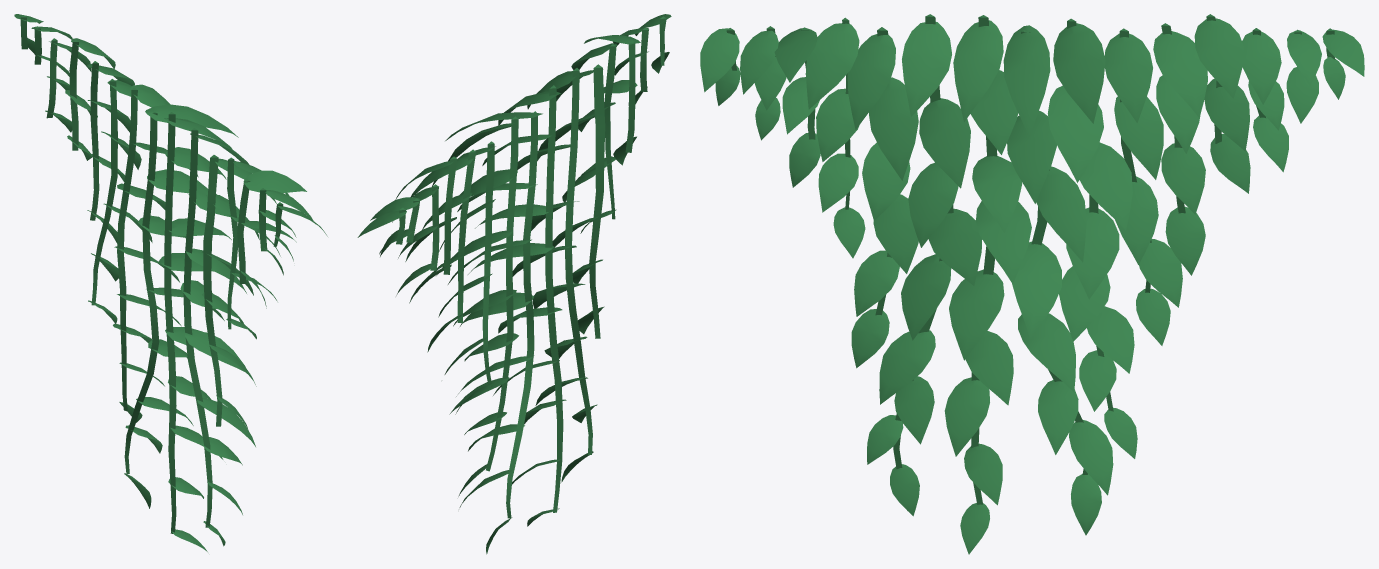
Rendered from vine_A_pack_scanden.fbx.
3 renders of one model, left to right at view 1: azimuth 30°, elevation 25°; view 2: azimuth 150°, elevation 25°; view 3: azimuth 270°, elevation 25°, orthographic. The views are drawn at different scales.
Visible parts, largest first — view 1: vine_A_pack_scanden_root_A, vine_A_pack_scanden_root_B, vine_A_pack_scanden_root_C, vine_A_pack_scanden_root_E, vine_A_pack_scanden_root_D, vine_A_pack_scanden_root_F, vine_A_pack_scanden_root_H, vine_scanden_A_leaf_A429, vine_A_pack_scanden_root_G, vine_scanden_A_leaf_A394, vine_A_pack_scanden_root_L, vine_scanden_A_leaf_A380 (+13 smaller); view 2: vine_A_pack_scanden_root_A, vine_A_pack_scanden_root_C, vine_A_pack_scanden_root_B, vine_A_pack_scanden_root_E, vine_A_pack_scanden_root_D, vine_A_pack_scanden_root_F, vine_A_pack_scanden_root_H, vine_A_pack_scanden_root_G, vine_A_pack_scanden_root_L, vine_A_pack_scanden_root_I, vine_A_pack_scanden_root_M, vine_scanden_A_leaf_A361 (+13 smaller); view 3: vine_scanden_A_leaf_A402, vine_scanden_A_leaf_A429, vine_scanden_A_leaf_A372, vine_scanden_A_leaf_A375, vine_scanden_A_leaf_A376, vine_scanden_A_leaf_A364, vine_scanden_A_leaf_A414, vine_scanden_A_leaf_A385, vine_scanden_A_leaf_A361, vine_scanden_A_leaf_A390, vine_scanden_A_leaf_A384, vine_scanden_A_leaf_A403 (+57 smaller).
Part boxes in pixels (x1,y1,x2,y2): vine_A_pack_scanden_root_A: (164, 112, 176, 533); vine_A_pack_scanden_root_B: (183, 128, 212, 527); vine_A_pack_scanden_root_C: (124, 111, 159, 473); vine_A_pack_scanden_root_E: (117, 88, 137, 411); vine_A_pack_scanden_root_D: (203, 155, 222, 426); vine_A_pack_scanden_root_F: (91, 79, 117, 305); vine_A_pack_scanden_root_H: (90, 61, 99, 220); vine_scanden_A_leaf_A429: (145, 104, 238, 137); vine_A_pack_scanden_root_G: (227, 157, 237, 329); vine_scanden_A_leaf_A394: (243, 170, 306, 192); vine_A_pack_scanden_root_L: (69, 39, 78, 150); vine_scanden_A_leaf_A380: (185, 330, 247, 373); vine_A_pack_scanden_root_A: (545, 85, 563, 512); vine_A_pack_scanden_root_C: (506, 111, 537, 518); vine_A_pack_scanden_root_B: (564, 68, 592, 455); vine_A_pack_scanden_root_E: (486, 116, 518, 471); vine_A_pack_scanden_root_D: (589, 64, 605, 338); vine_A_pack_scanden_root_F: (482, 141, 494, 386); vine_A_pack_scanden_root_H: (457, 149, 475, 323); vine_A_pack_scanden_root_G: (604, 44, 616, 219); vine_A_pack_scanden_root_L: (443, 156, 456, 274); vine_A_pack_scanden_root_I: (625, 40, 635, 152); vine_A_pack_scanden_root_M: (430, 184, 439, 270); vine_scanden_A_leaf_A361: (460, 292, 533, 326); vine_scanden_A_leaf_A402: (1053, 23, 1105, 123); vine_scanden_A_leaf_A429: (1003, 25, 1050, 137); vine_scanden_A_leaf_A372: (953, 20, 1003, 121); vine_scanden_A_leaf_A375: (902, 22, 951, 116); vine_scanden_A_leaf_A376: (919, 98, 970, 188); vine_scanden_A_leaf_A364: (949, 269, 1004, 360); vine_scanden_A_leaf_A414: (1047, 85, 1103, 182); vine_scanden_A_leaf_A385: (869, 77, 918, 180); vine_scanden_A_leaf_A361: (1012, 241, 1061, 339); vine_scanden_A_leaf_A390: (805, 23, 859, 109); vine_scanden_A_leaf_A384: (847, 34, 895, 129); vine_scanden_A_leaf_A403: (1104, 33, 1152, 122).
Bounding box in the file's own units: 36.78 × 159 × 183.
